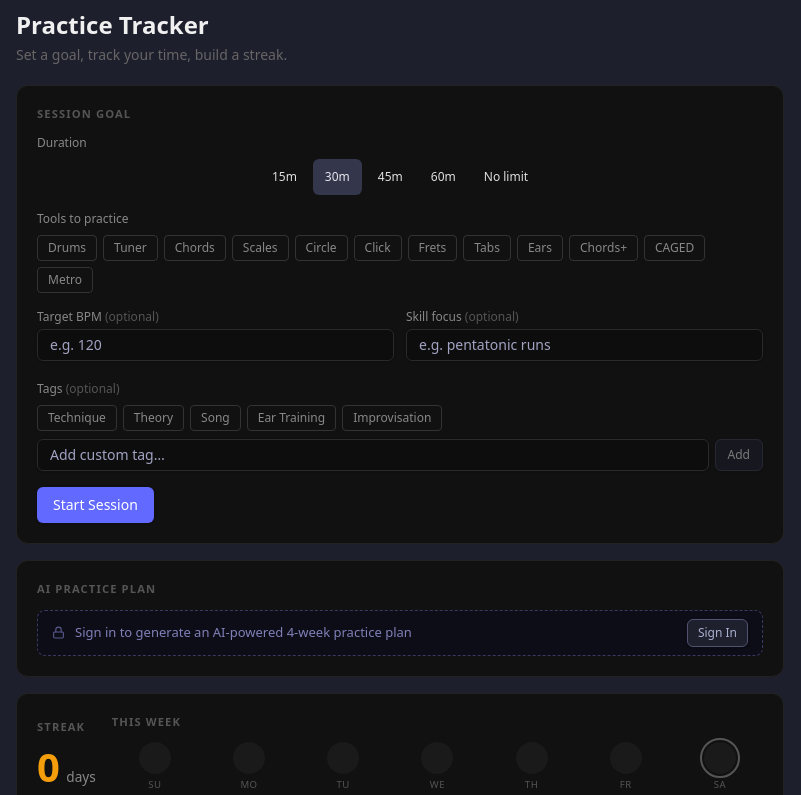
PracticeSessionPage – custom tag input › Add button becomes enabled once the input has content
Type "Legato" into the field with placeholder "Add custom tag…" at (373, 455), box [37, 439, 709, 471]
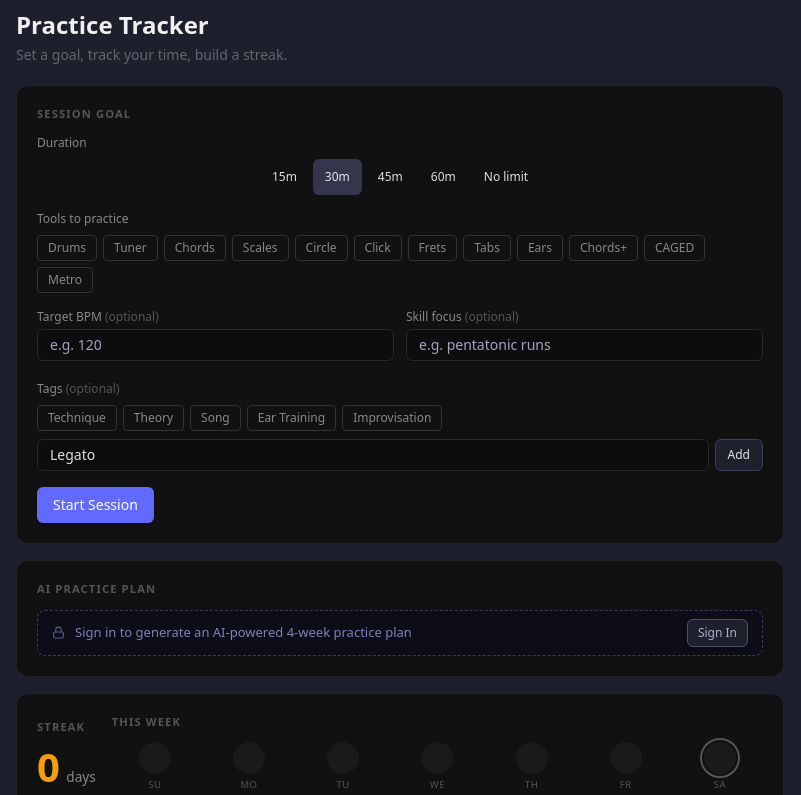
Check: the button "Add" is enabled, box [715, 439, 763, 471]
